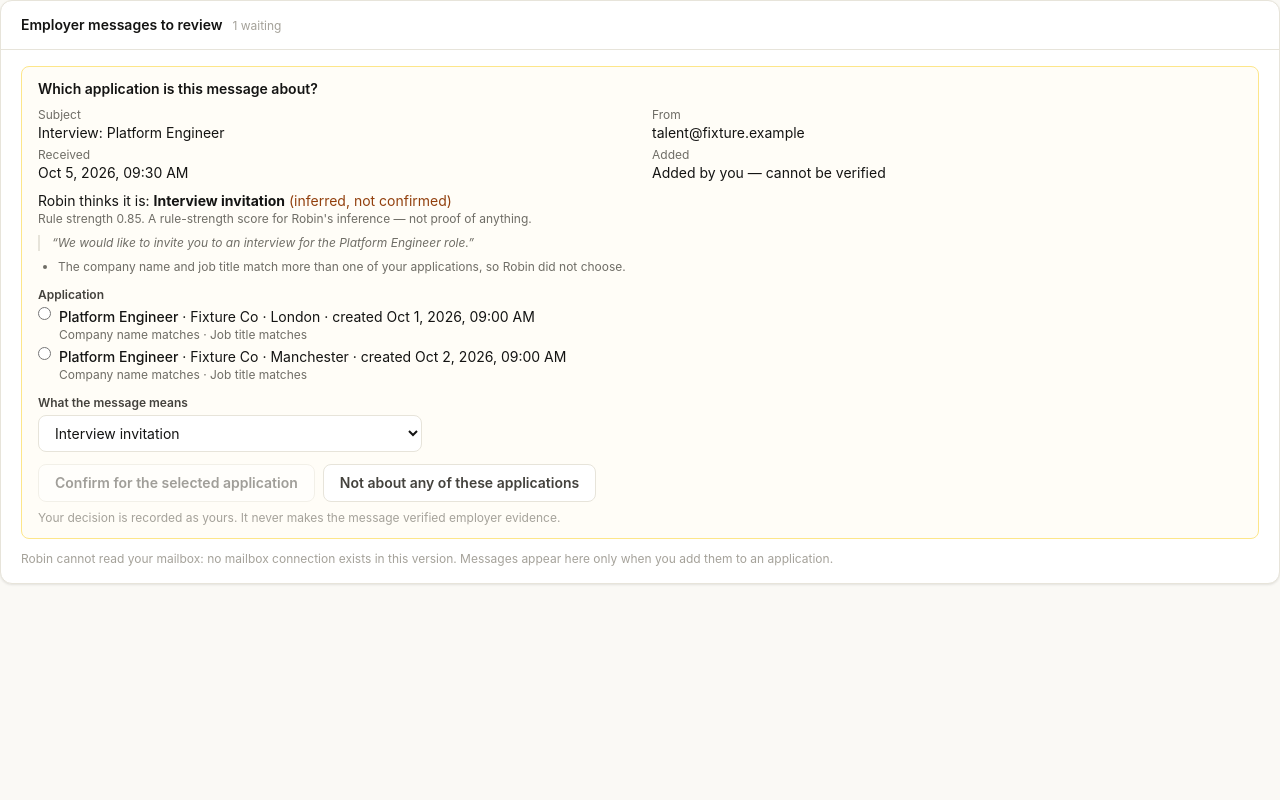
TrackReviewQueue › records a rejection of the proposed association
Click the button "Not about any of these applications" at (460, 483), box [323,464,596,502]
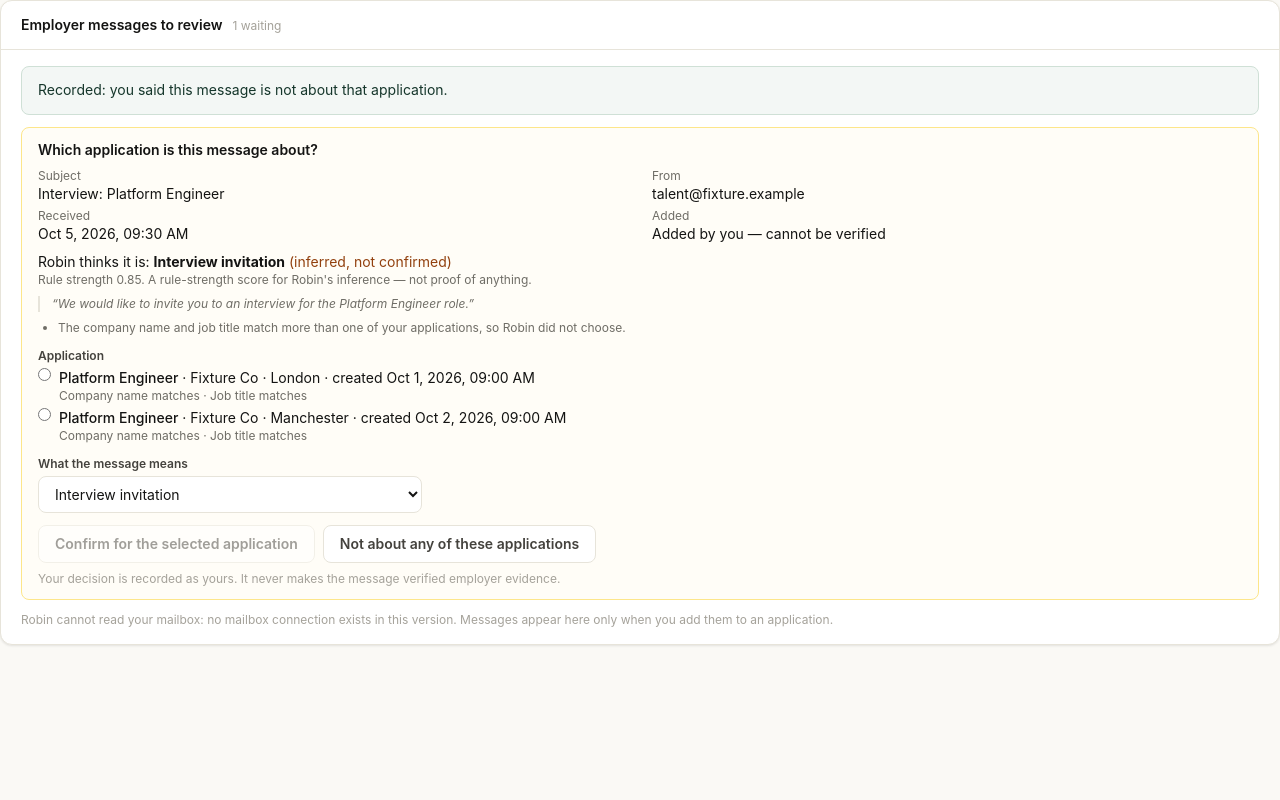
Now the text "Recorded: you said this message is not about that application." is shown, box [21,66,1259,115]
